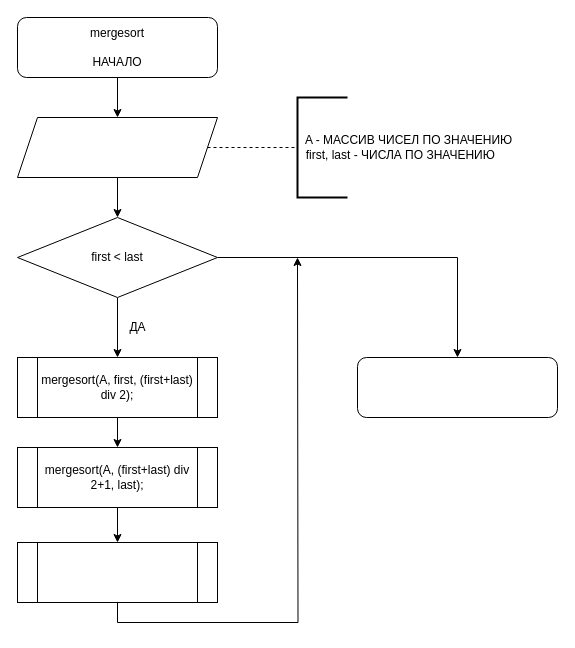
Some shapes in this 575 by 648 pixel diagram are drawn without their labels. The shapes that lost their labels are listed below. From the top down, each one's centre as x and y in pixels, then its label:
pixel 117 147: A, first, last
pixel 457 387: КОНЕЦ mergesort
pixel 117 572: merge(A, first, last);
